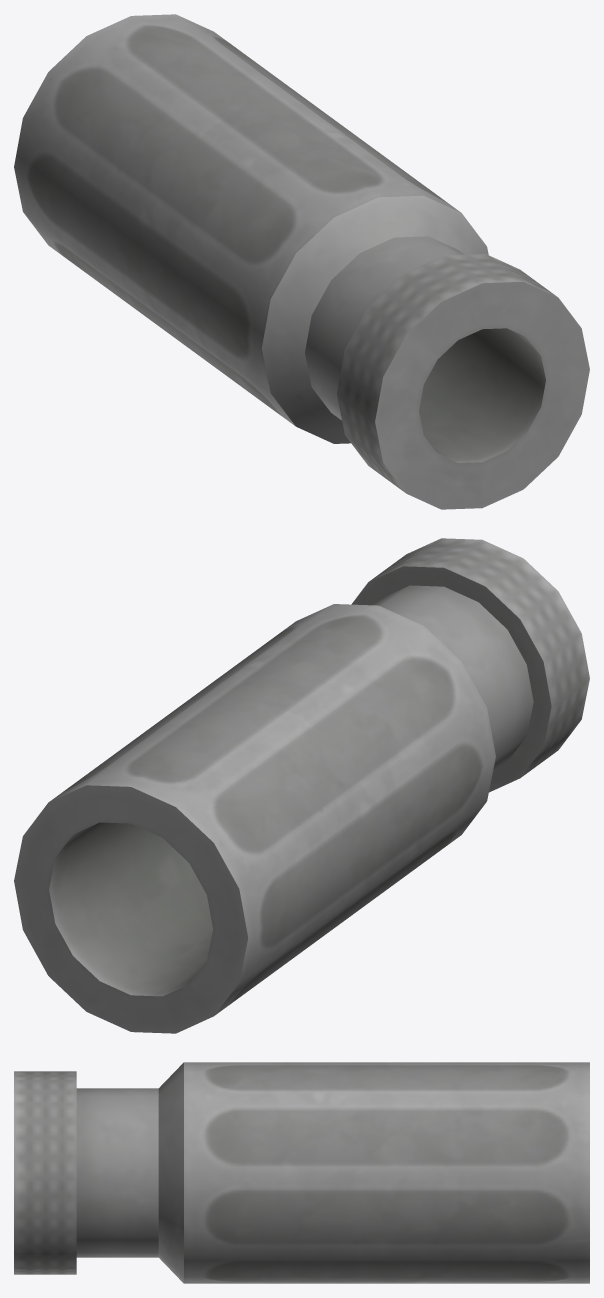
Rendered from IG_Acc_Muzzle_SMG_REC_3.fbx.
3 views of the same model, one above another, from view 1: azimuth 30°, elevation 25°; view 2: azimuth 150°, elevation 25°; view 3: azimuth 270°, elevation 25° (orthographic). The views are drawn at different scales.
Visible parts, largest first — view 1: Muzzle_SMG_REC_3; view 2: Muzzle_SMG_REC_3; view 3: Muzzle_SMG_REC_3.
Boxes of the visible parts, box(x1,y1,x2,y2) form: Muzzle_SMG_REC_3: box(14, 14, 589, 509); Muzzle_SMG_REC_3: box(14, 538, 589, 1033); Muzzle_SMG_REC_3: box(14, 1062, 589, 1283).
Bounding box in the file's own units: 0.0801 × 0.0801 × 0.2081.
